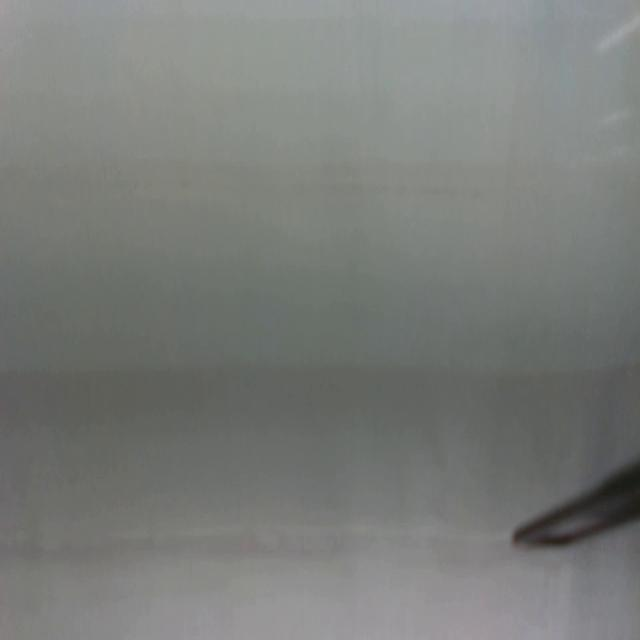color bleeding: (0, 359, 640, 442), (0, 146, 636, 216), (0, 520, 512, 578)
